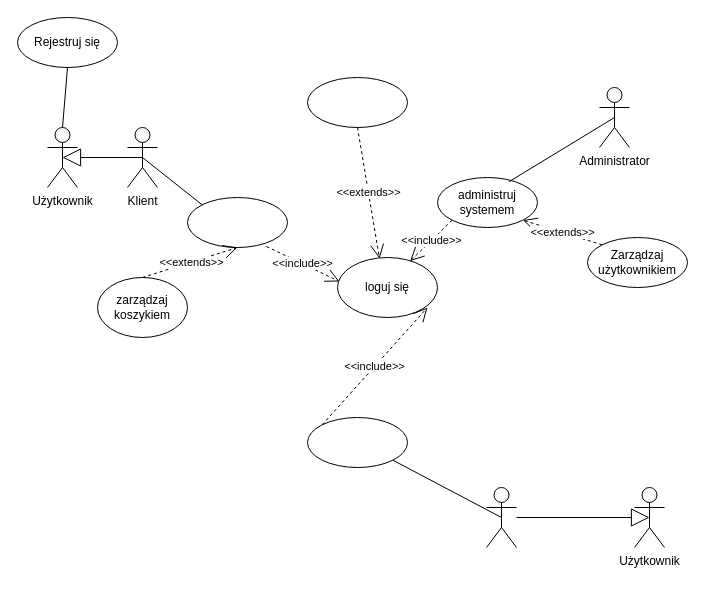
This 705x601 diagram has some shape labels left out. The shapes that lost their labels are listed below. From the top down, each one's centre as x and y in pixels, then its label:
the point at 357,102: Wyloguj się
the point at 237,222: Przejdź do koszyka
the point at 357,442: zarządzaj produktami
the point at 501,517: Koordynator partnerski
